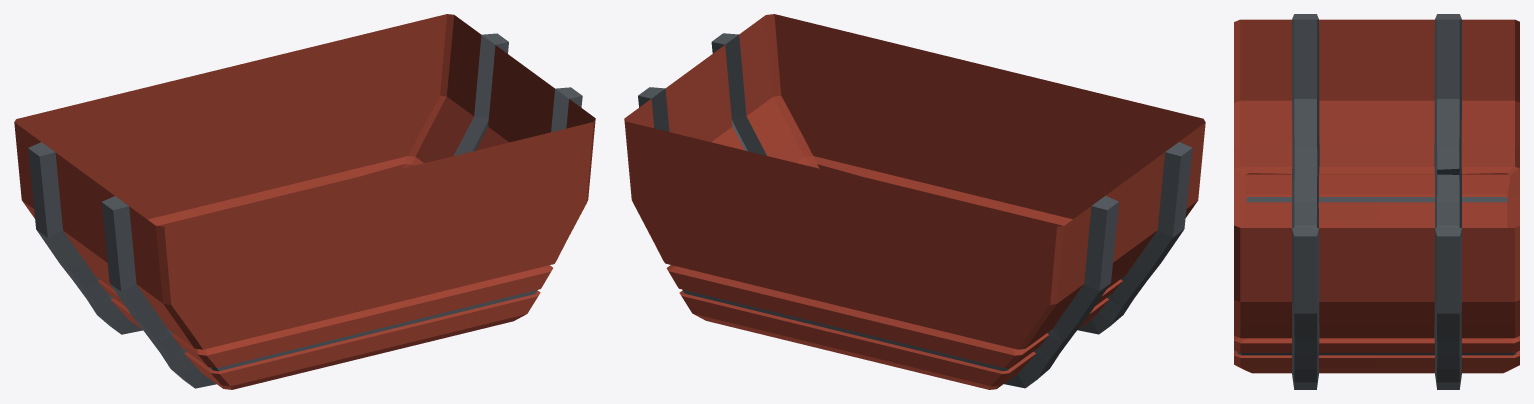
File: Dropship_05_Secondary_Storage_Red.fbx
The picture shows the model from 3 angles, left to right: view 1: azimuth 30°, elevation 25°; view 2: azimuth 150°, elevation 25°; view 3: azimuth 270°, elevation 25°; orthographic projection. The views are drawn at different scales.
Visible parts, largest first — view 1: Dropship_05_Secondary_Storage_Red; view 2: Dropship_05_Secondary_Storage_Red; view 3: Dropship_05_Secondary_Storage_Red.
Boxes of the visible parts, x1=… form: Dropship_05_Secondary_Storage_Red: x1=14, y1=14, x2=595, y2=389; Dropship_05_Secondary_Storage_Red: x1=624, y1=14, x2=1205, y2=389; Dropship_05_Secondary_Storage_Red: x1=1234, y1=14, x2=1519, y2=389.
Size of the model in its own units: 333 by 136 by 181.
1 material, 1 textured.
